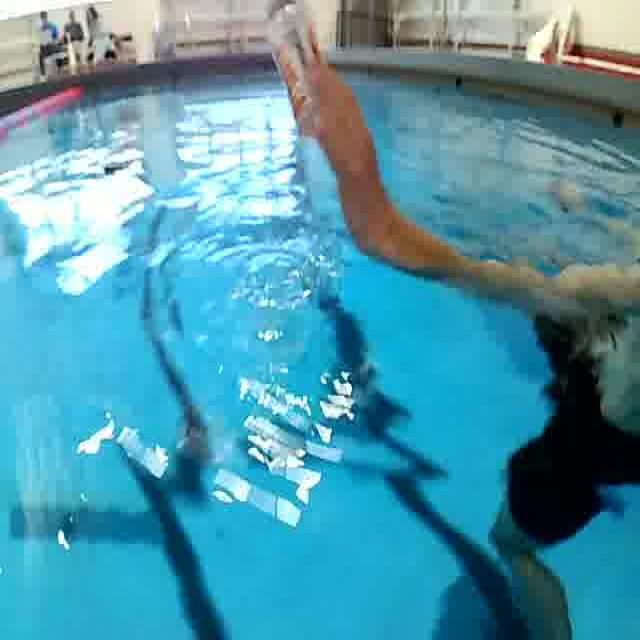Bottle: (260, 0, 340, 150)
